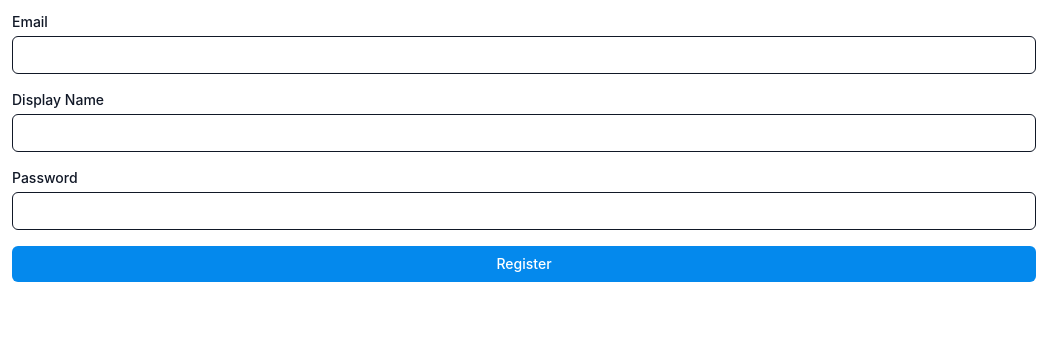
Test: RegisterForm › shows server error when registerAction returns error
This screenshot has width=1048, height=361.
In the field labelled "Email": (524, 55) [12, 36, 1036, 74], type "existing@epam.com"
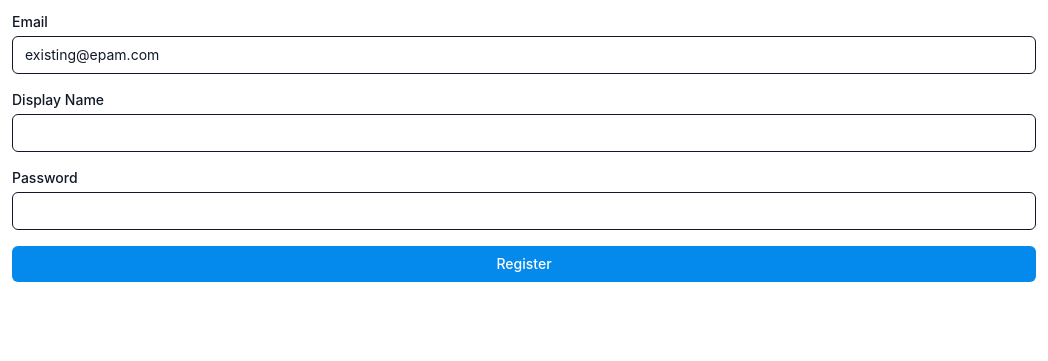
In the field labelled "Display Name": (524, 133) [12, 114, 1036, 152], type "Existing User"
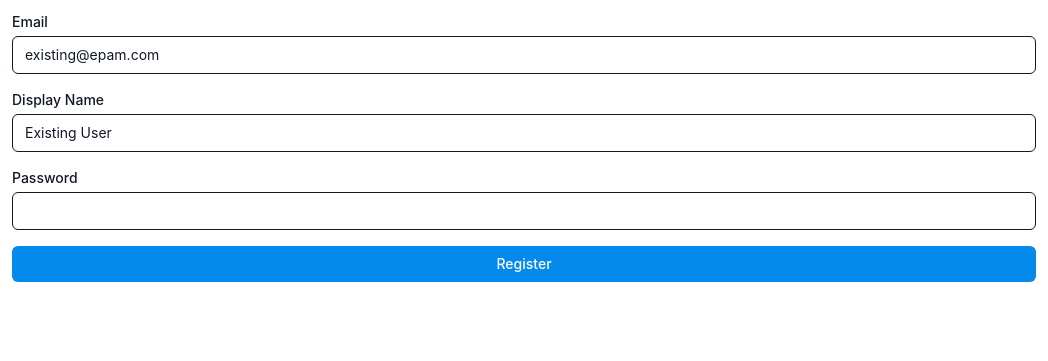
In the password field labelled "Password": (524, 211) [12, 192, 1036, 230], type "Password1"
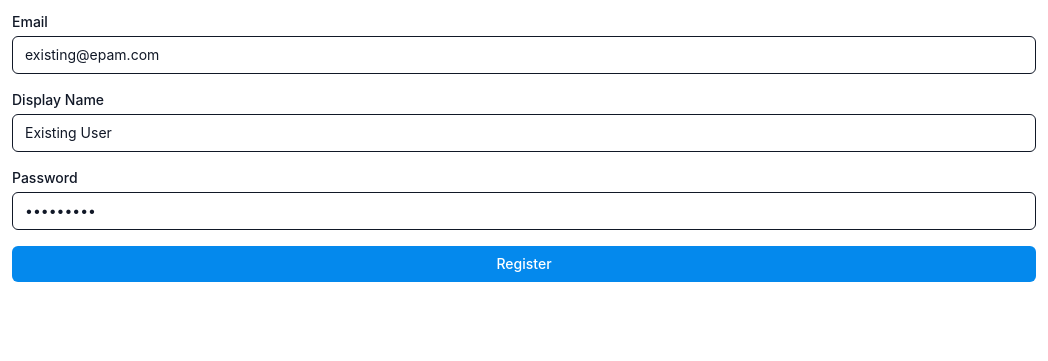
Click the button "Register": click(524, 264) [12, 246, 1036, 282]
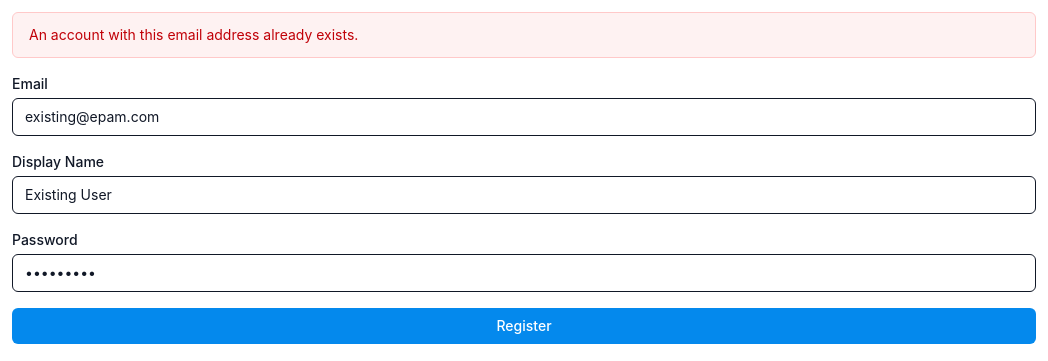
Expected: the text "An account with this email address already exists." is shown, [12, 12, 1036, 58]
